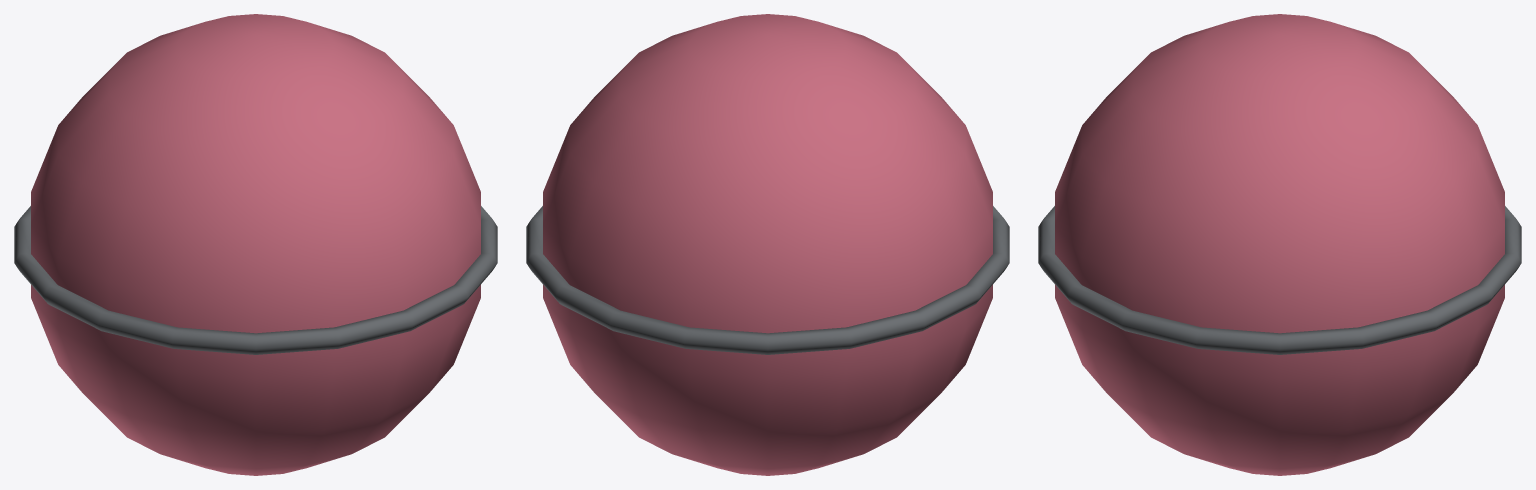
File: wall_ball.glb
3 renders of one model, left to right at view 1: azimuth 30°, elevation 25°; view 2: azimuth 150°, elevation 25°; view 3: azimuth 270°, elevation 25°, orthographic.
Size of the model in its own units: 0.36 by 0.34 by 0.3545.
